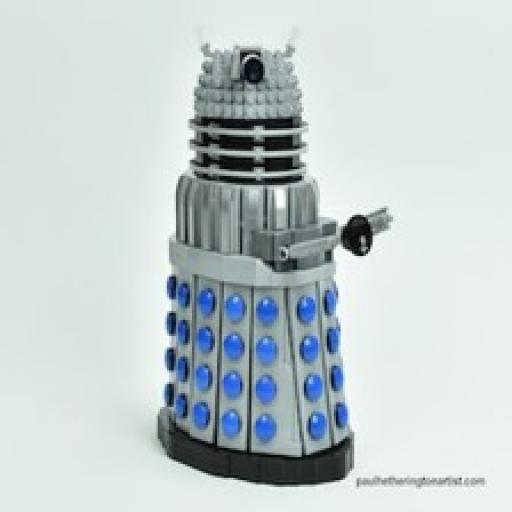dalek: (151, 25, 400, 475)
